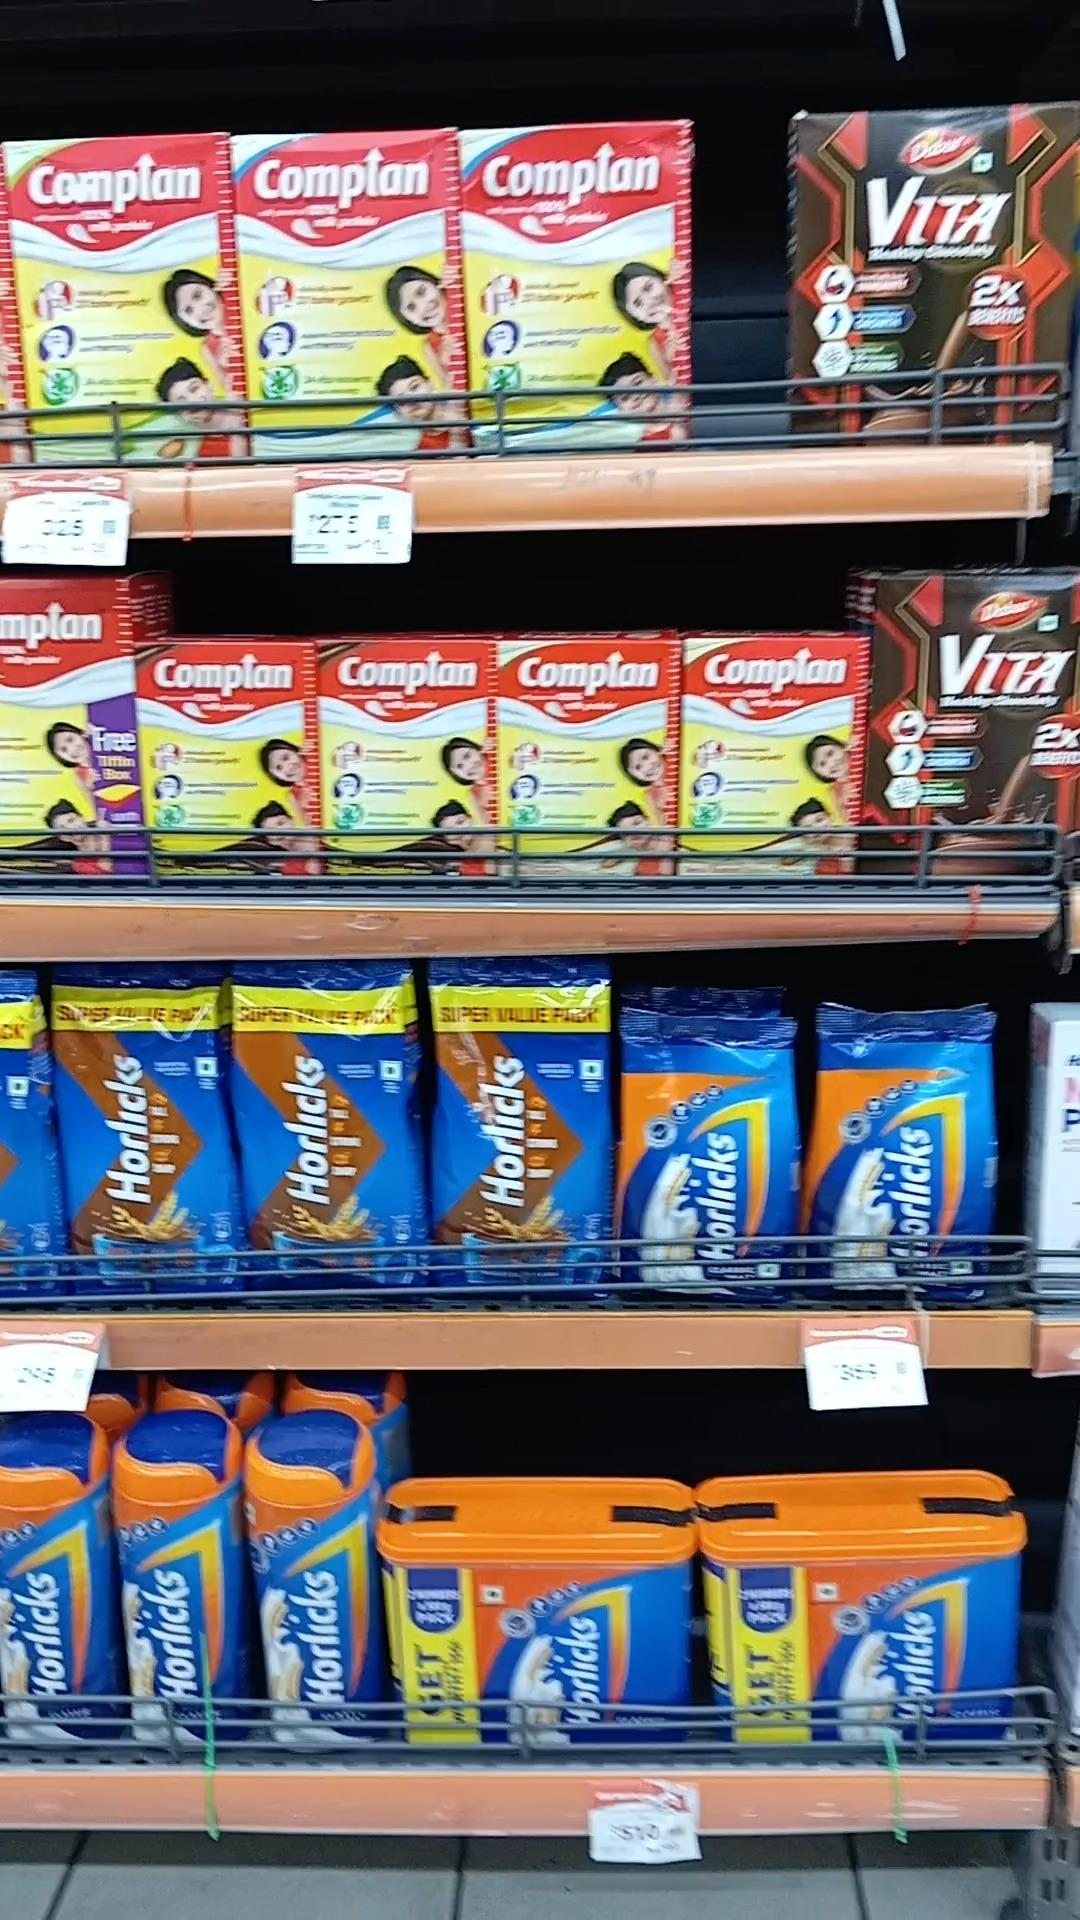COMPLAN_CHOCOLATE_1_KG_PACK: (0, 572, 142, 895)
COMPLAN_CHOCOLATE_500_GMS_PACK: (135, 645, 315, 894), (316, 642, 492, 890)
COMPLAN_KESAR_BADAM_500_GMS_PACK: (495, 638, 675, 881), (686, 641, 855, 893)
COMPLAN_PISTA_BADAM_500_GMS_PACK: (0, 131, 228, 483)
HORLICK_CHOCOLATE_750_G_POUCH: (235, 972, 417, 1300), (434, 963, 605, 1304), (53, 973, 222, 1299)
HORLICK_CLASSIC_MALT_750_G_POUCH: (811, 1006, 986, 1296), (628, 1006, 795, 1292)
HORLICK_MALT_1_KG_CONTAINER: (708, 1542, 1014, 1754), (390, 1531, 688, 1749)
